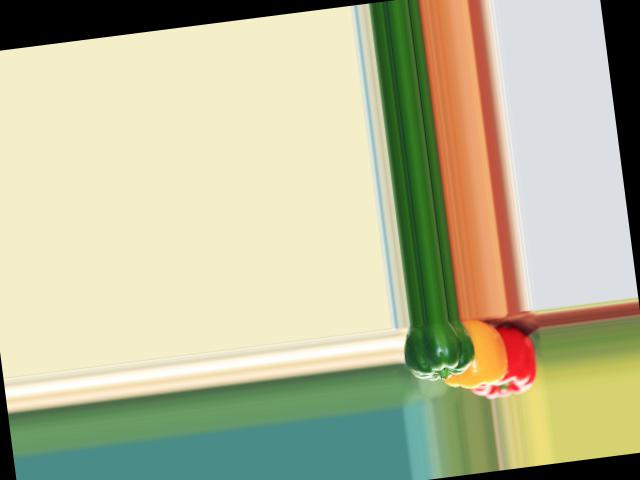bell_pepper: (462, 313, 539, 400)
